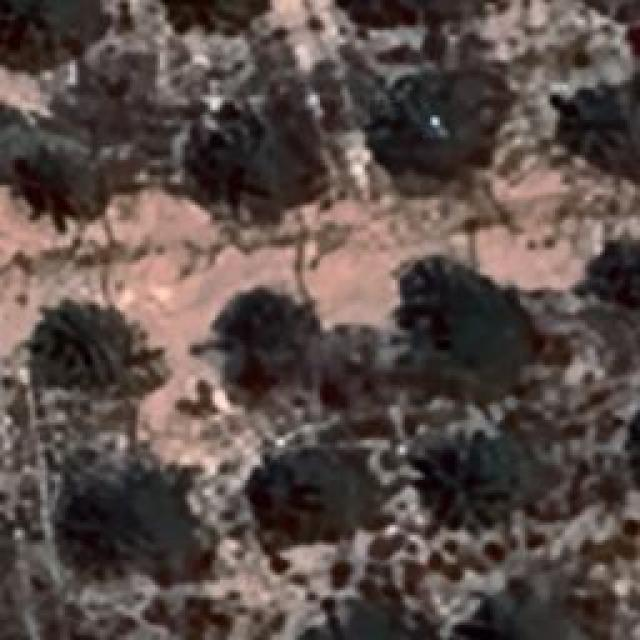PalmTree: (52, 38, 513, 617), (58, 472, 176, 580), (268, 450, 392, 552), (422, 271, 526, 384), (422, 438, 532, 540), (387, 88, 475, 166), (17, 136, 102, 214), (42, 308, 128, 382), (229, 298, 299, 384), (199, 114, 269, 192), (569, 85, 639, 153), (162, 0, 260, 36), (336, 0, 434, 29), (597, 259, 640, 312), (624, 396, 640, 494)
